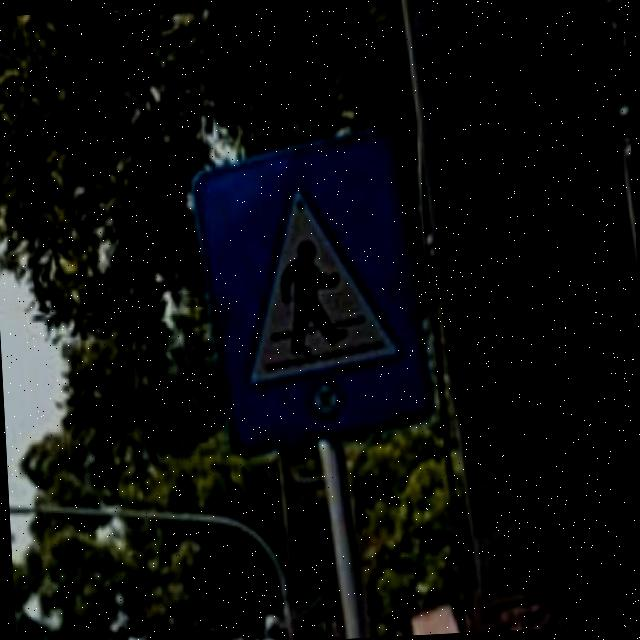Przejscie dla pieszych: (182, 130, 436, 448)
